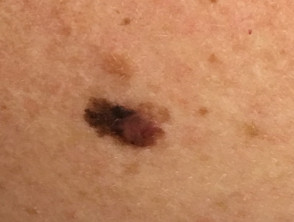melanoma: (63, 69, 186, 168)
